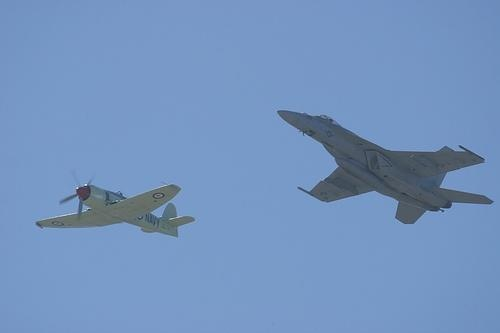aeroplane: (274, 108, 496, 227), (37, 180, 199, 238)
